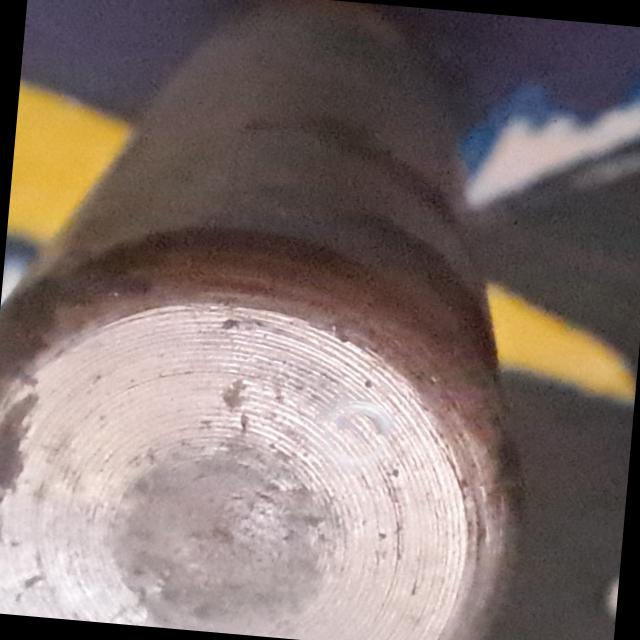defect: (304, 384, 402, 472)
planson: (0, 0, 527, 640)
